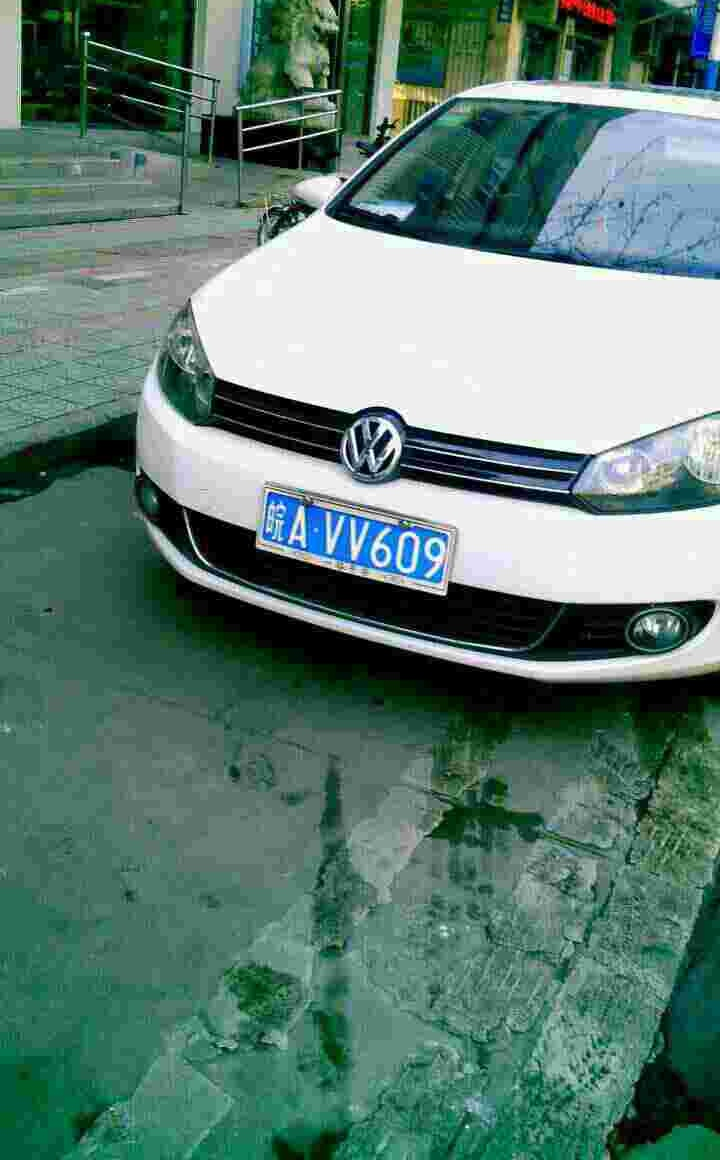car: (258, 480, 460, 594)
